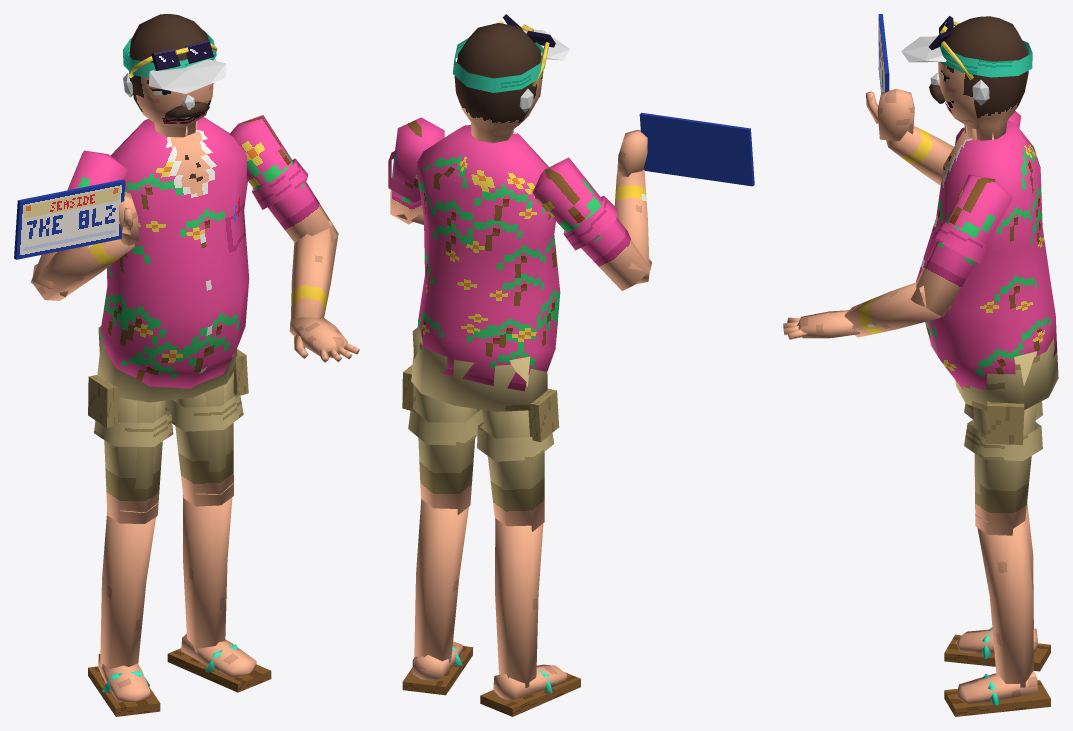
The model's file is Forger Kevin.fbx.
3 renders of one model, left to right at view 1: azimuth 30°, elevation 25°; view 2: azimuth 150°, elevation 25°; view 3: azimuth 270°, elevation 25°, orthographic. The views are drawn at different scales.
Parts seen in each view (by area): view 1: Forger Kevin torso, Forger Kevin shin R.001, Forger Kevin fake plate.001, Forger Kevin shin L.001, Forger Kevin thigh R, Forger Kevin head.001, Forger Kevin thigh L, Forger Kevin upper arm L, Forger Kevin forearm L.001, Forger Kevin forearm R.001, Forger Kevin shorts seat, Forger Kevin upper arm R (+13 smaller); view 2: Forger Kevin torso, Forger Kevin shin R.001, Forger Kevin head.001, Forger Kevin shin L.001, Forger Kevin fake plate.001, Forger Kevin upper arm R, Forger Kevin thigh R, Forger Kevin shorts seat, Forger Kevin thigh L, Forger Kevin upper arm L, Forger Kevin forearm R.001, Forger Kevin shorts cuff L (+9 smaller); view 3: Forger Kevin torso, Forger Kevin head.001, Forger Kevin shin L.001, Forger Kevin upper arm L, Forger Kevin thigh L, Forger Kevin shorts seat, Forger Kevin forearm L.001, Forger Kevin forearm R.001, Forger Kevin hand R.001, Forger Kevin shorts cuff L, Forger Kevin sandal sole L, Forger Kevin cargo pocket L (+8 smaller).
Boxes of the visible parts, x1=… form: Forger Kevin torso: x1=100, y1=117, x2=249, y2=388; Forger Kevin shin R.001: x1=100, y1=503, x2=158, y2=668; Forger Kevin fake plate.001: x1=14, y1=179, x2=125, y2=259; Forger Kevin shin L.001: x1=183, y1=483, x2=233, y2=653; Forger Kevin thigh R: x1=98, y1=326, x2=165, y2=523; Forger Kevin head.001: x1=129, y1=14, x2=213, y2=137; Forger Kevin thigh L: x1=173, y1=372, x2=233, y2=506; Forger Kevin upper arm L: x1=230, y1=115, x2=337, y2=242; Forger Kevin forearm L.001: x1=290, y1=220, x2=338, y2=320; Forger Kevin forearm R.001: x1=32, y1=239, x2=134, y2=300; Forger Kevin shorts seat: x1=97, y1=342, x2=236, y2=402; Forger Kevin upper arm R: x1=30, y1=150, x2=127, y2=298; Forger Kevin torso: x1=416, y1=125, x2=560, y2=391; Forger Kevin shin R.001: x1=495, y1=518, x2=543, y2=687; Forger Kevin head.001: x1=454, y1=23, x2=543, y2=142; Forger Kevin shin L.001: x1=414, y1=499, x2=468, y2=662; Forger Kevin fake plate.001: x1=639, y1=112, x2=754, y2=186; Forger Kevin upper arm R: x1=532, y1=157, x2=651, y2=290; Forger Kevin thigh R: x1=482, y1=356, x2=544, y2=531; Forger Kevin shorts seat: x1=411, y1=343, x2=547, y2=411; Forger Kevin thigh L: x1=412, y1=326, x2=477, y2=514; Forger Kevin upper arm L: x1=390, y1=117, x2=444, y2=224; Forger Kevin forearm R.001: x1=614, y1=169, x2=649, y2=284; Forger Kevin shorts cuff L: x1=408, y1=407, x2=483, y2=445; Forger Kevin torso: x1=916, y1=120, x2=1056, y2=389; Forger Kevin head.001: x1=938, y1=16, x2=1028, y2=140; Forger Kevin shin L.001: x1=975, y1=515, x2=1033, y2=687; Forger Kevin upper arm L: x1=910, y1=174, x2=1013, y2=316; Forger Kevin thigh L: x1=973, y1=351, x2=1037, y2=535; Forger Kevin shorts seat: x1=955, y1=338, x2=1058, y2=411; Forger Kevin forearm L.001: x1=844, y1=282, x2=951, y2=337; Forger Kevin forearm R.001: x1=886, y1=125, x2=953, y2=185; Forger Kevin hand R.001: x1=877, y1=88, x2=914, y2=141; Forger Kevin shorts cuff L: x1=964, y1=419, x2=1042, y2=460; Forger Kevin sandal sole L: x1=944, y1=680, x2=1050, y2=716; Forger Kevin cargo pocket L: x1=985, y1=401, x2=1024, y2=444.
Size of the model in its own units: 0.9558 by 1.76 by 0.6689.
Materials: 17 (15 with a texture image).
